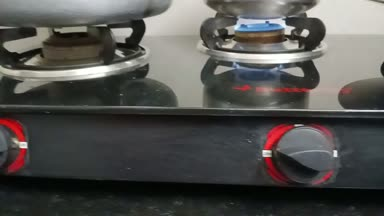flame_gas_on: (212, 12, 333, 189)
